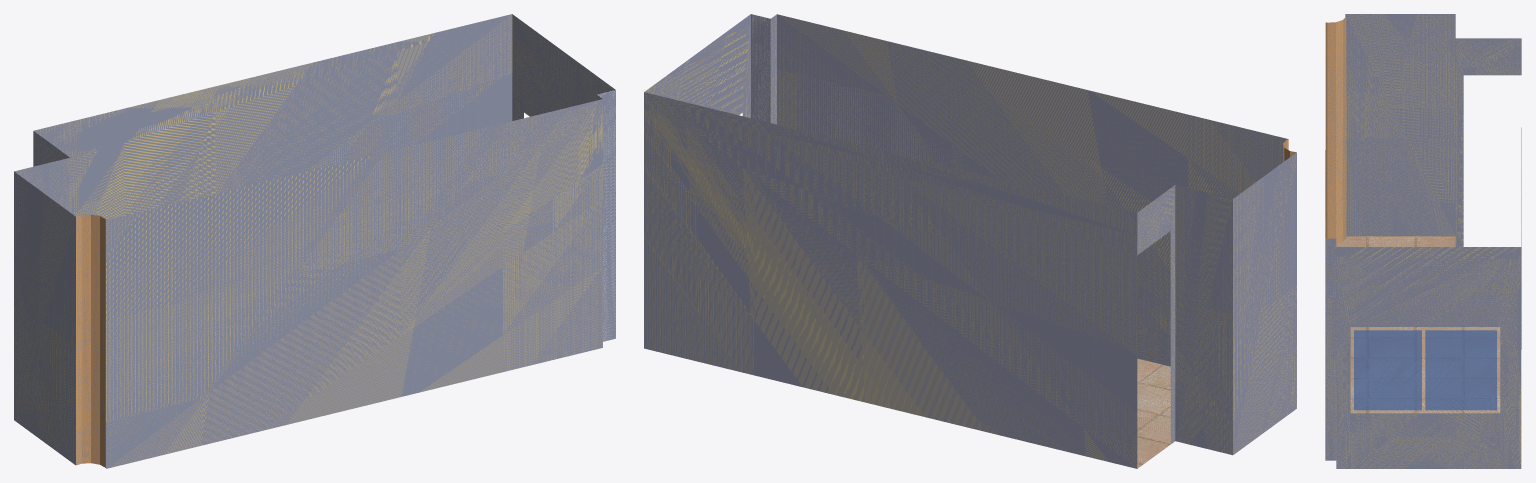
Rendered from DES006.obj.
3 renders of one model, left to right at view 1: azimuth 30°, elevation 25°; view 2: azimuth 150°, elevation 25°; view 3: azimuth 270°, elevation 25°, orthographic. The views are drawn at different scales.
Parts seen in each view (by area): view 1: Mesh2 DES006 Model; view 2: Mesh2 DES006 Model; view 3: Mesh2 DES006 Model, Mesh1 DES006 Model, Mesh3 DES006 Model.
Boxes of the visible parts, x1=… form: Mesh2 DES006 Model: x1=14, y1=14, x2=615, y2=468; Mesh2 DES006 Model: x1=644, y1=14, x2=1296, y2=468; Mesh2 DES006 Model: x1=1325, y1=14, x2=1521, y2=468; Mesh1 DES006 Model: x1=1425, y1=330, x2=1496, y2=410; Mesh3 DES006 Model: x1=1354, y1=330, x2=1421, y2=410.
Size of the model in its own units: 8.1 by 3.6 by 2.88.
7 materials, 2 textured.
